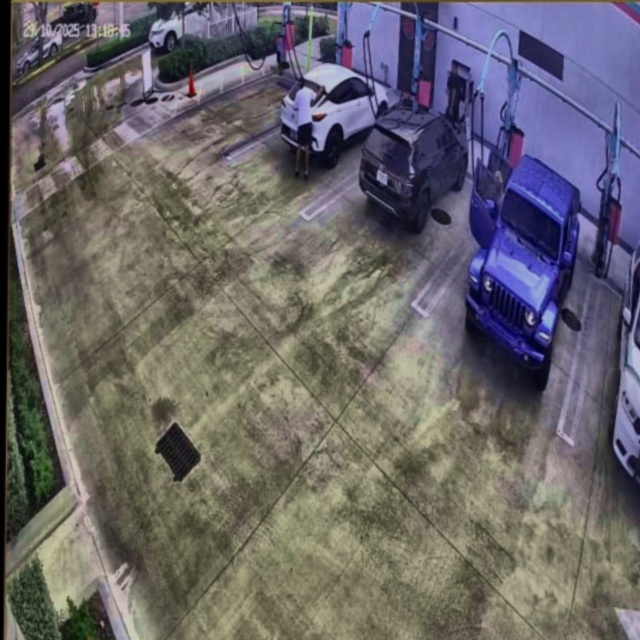Car: (459, 150, 590, 386), (359, 101, 471, 237), (281, 61, 388, 160)
